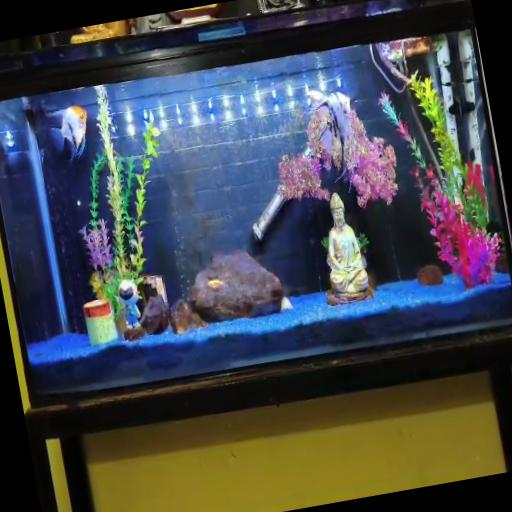Fish: (309, 90, 353, 179), (25, 105, 87, 160), (47, 106, 87, 160), (208, 279, 224, 289)
